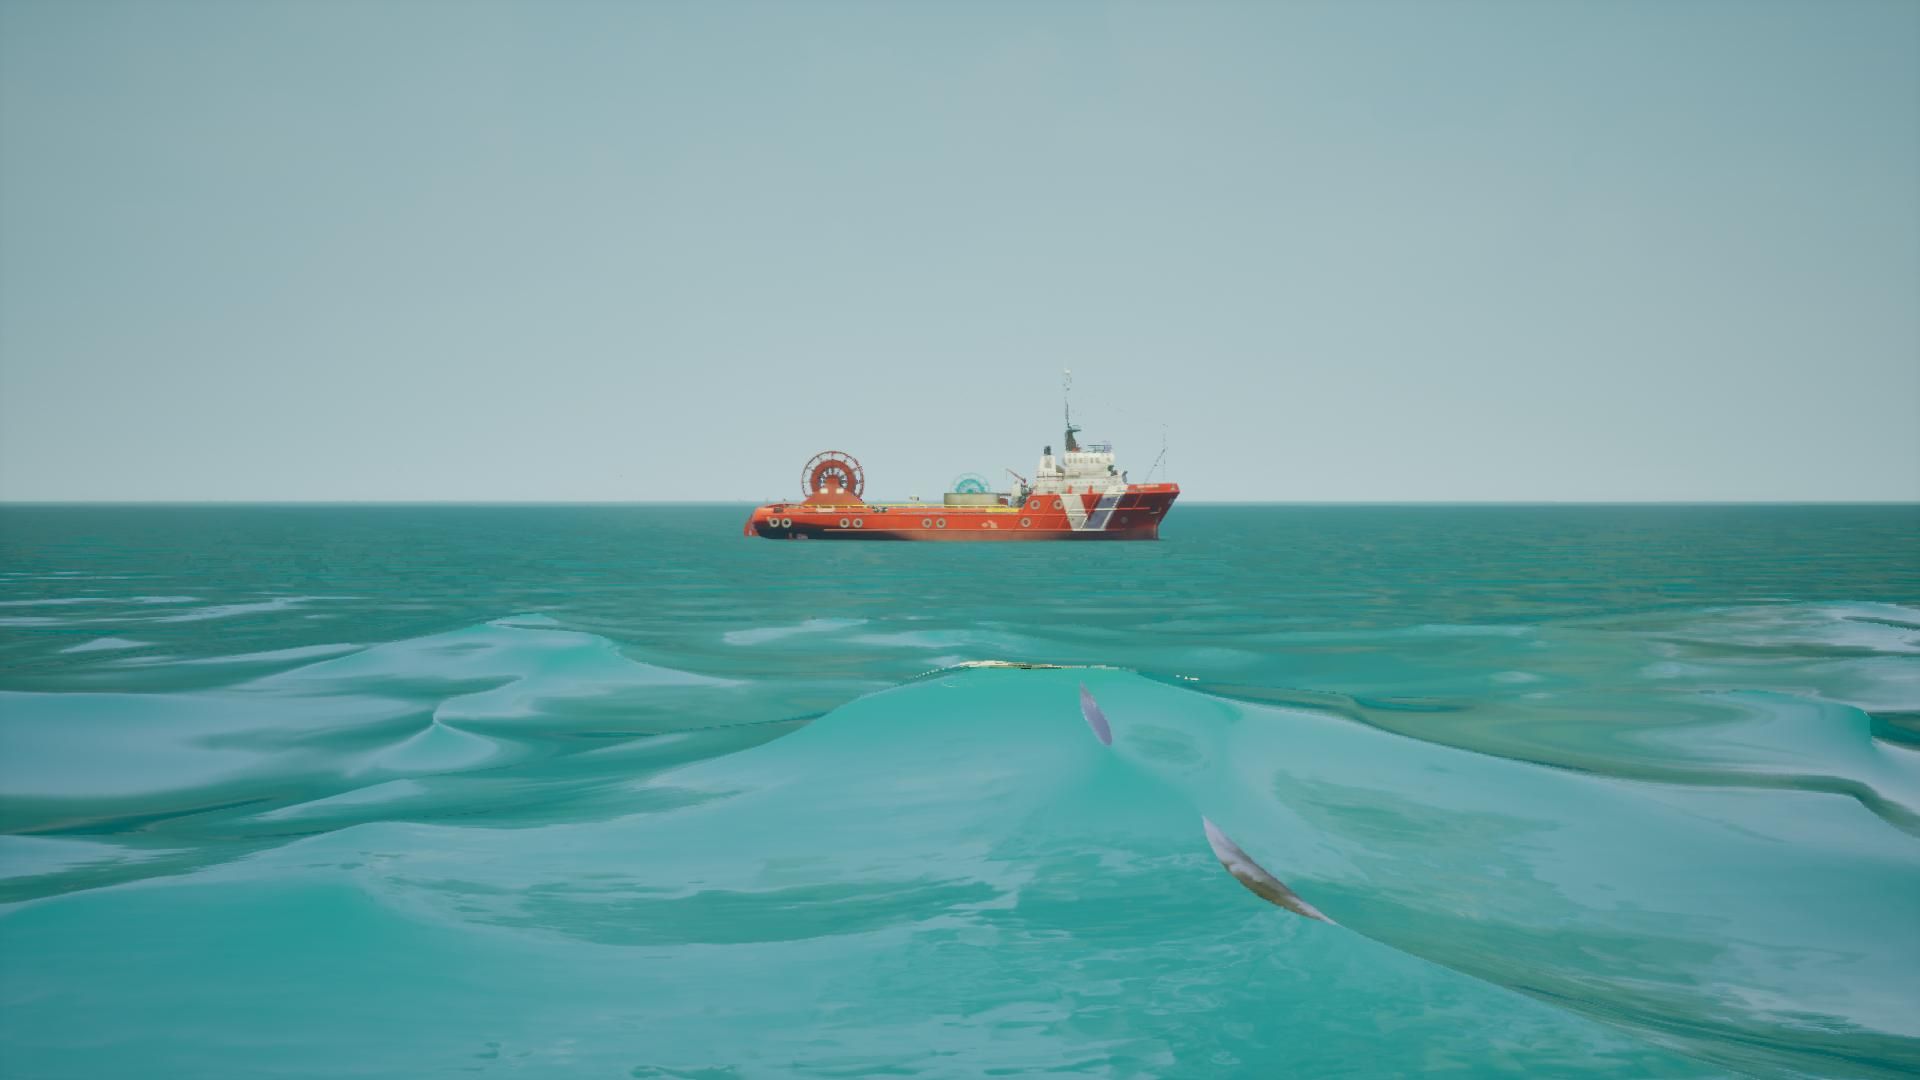Tug Boat: (744, 365, 1184, 545)
